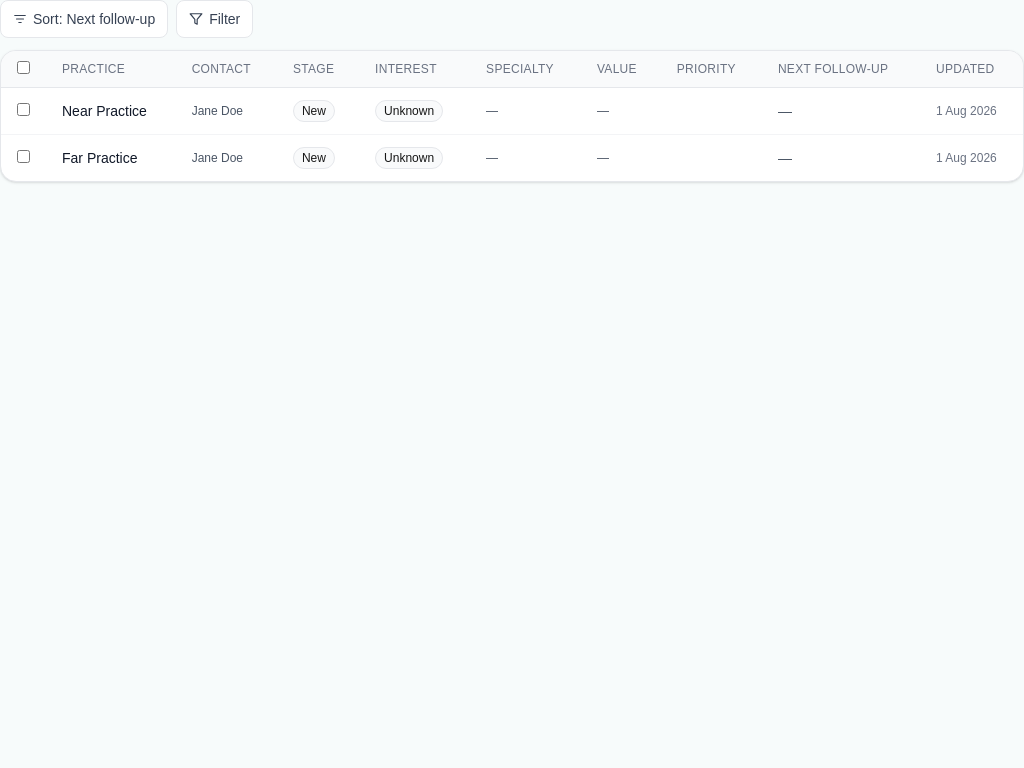
LeadsListSection — "Distance from me" sort, owned here (not the results table) › shows a location error inline and never crashes when geolocation fails
The image size is (1024, 768).
Click the button with test id "open-sort-sheet".
click(84, 19)  # box left=0, top=0, right=168, bottom=38
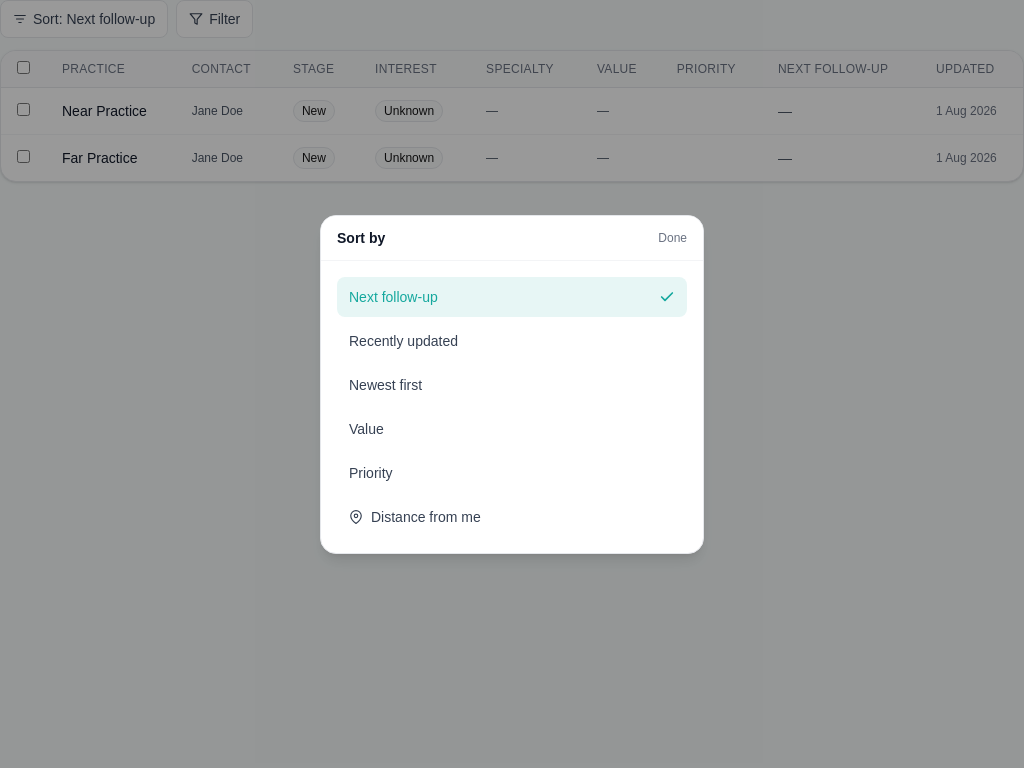
Click the button with test id "sort-option:distance".
click(426, 516)  # box left=337, top=496, right=687, bottom=536
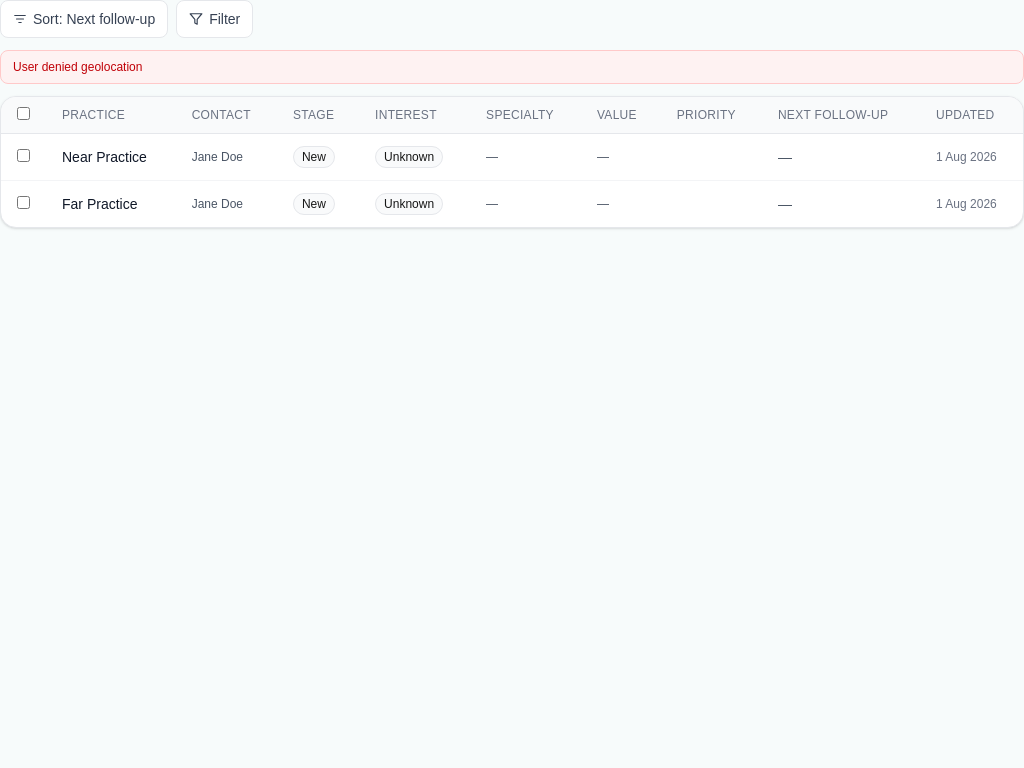
Expected: the message reads "User denied geolocation", left=13, top=60, right=142, bottom=74
